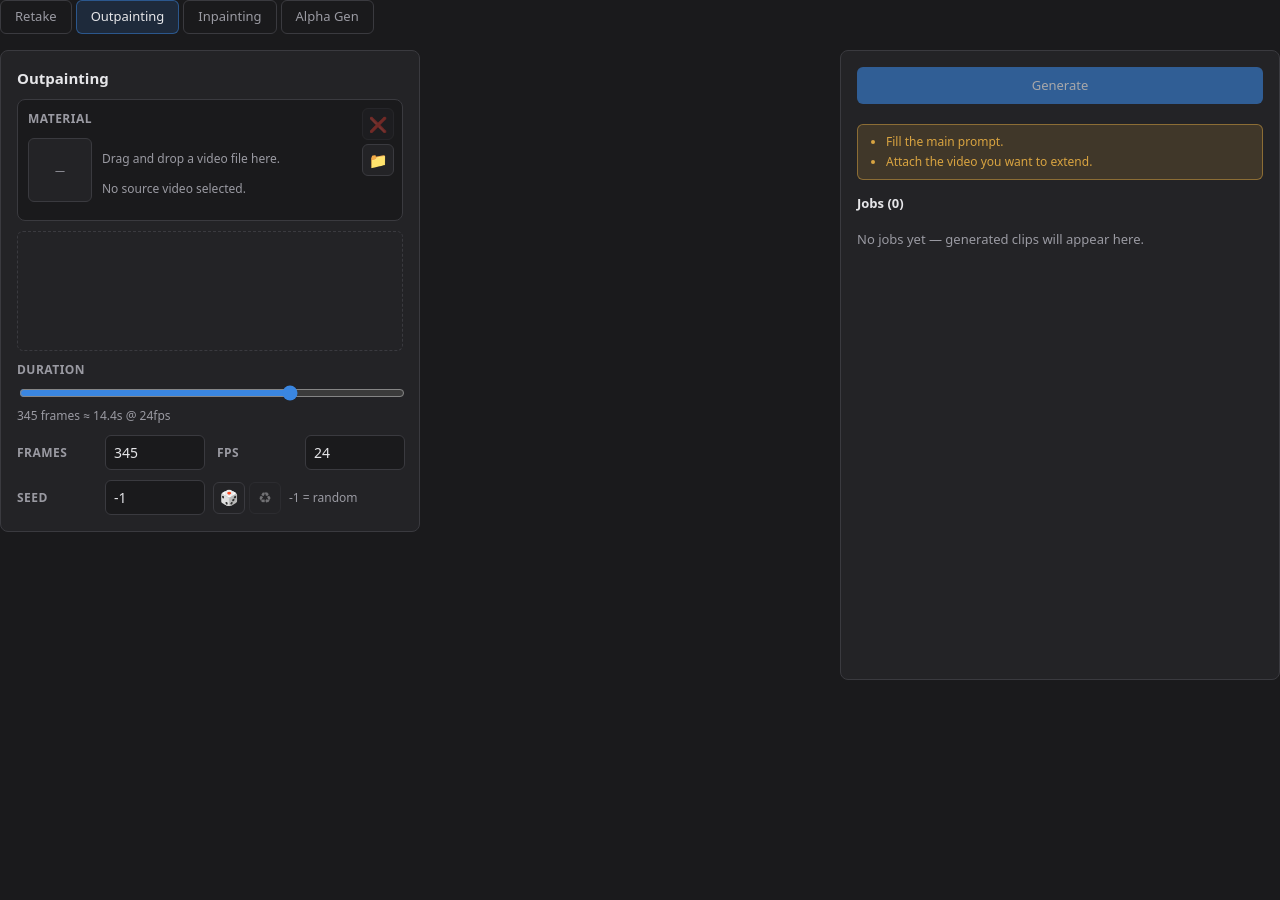
Test: OutpaintingPanel › pins the slider thumb at its own max while the number box keeps the real value
Click the button named "choose source video": (378, 160) [362,144,394,176]
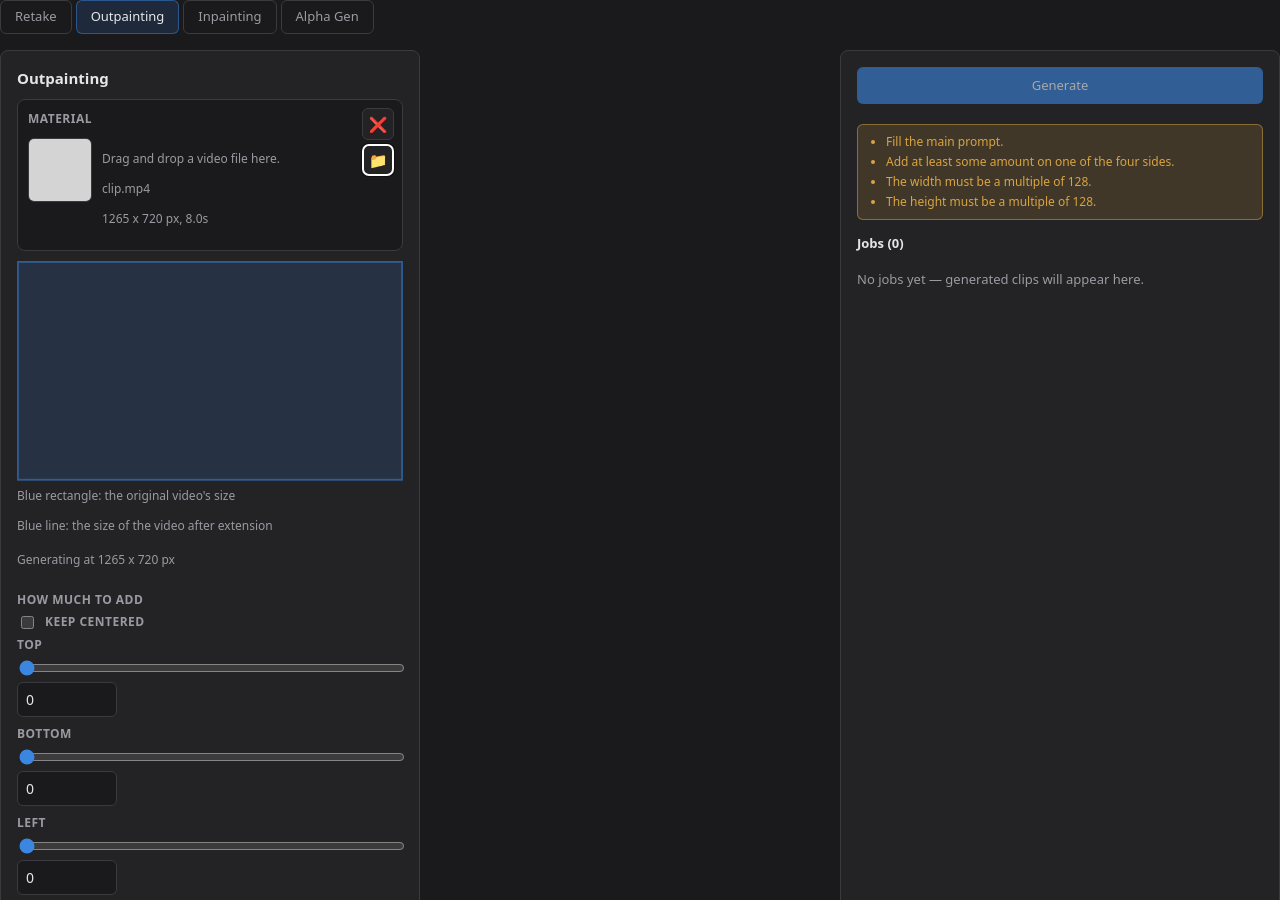
Check: the slider labelled "Left" is shown, box [19,838,405,854]
Replace the text in the number field named "left" with "500": (67, 877) [17,860,117,895]
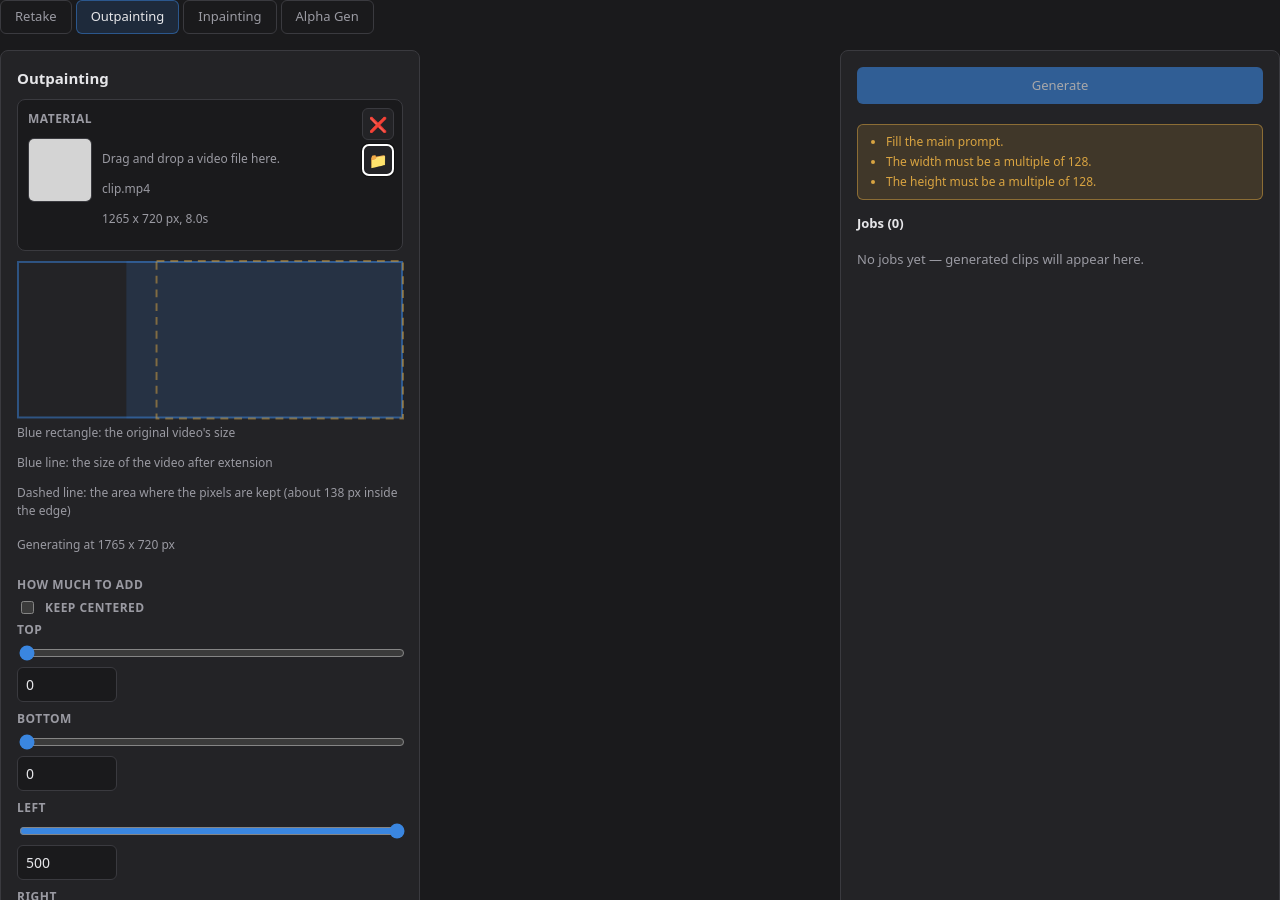
Check: the text "Generating at 1765 x 720 px" is shown, box [17,536,175,554]
